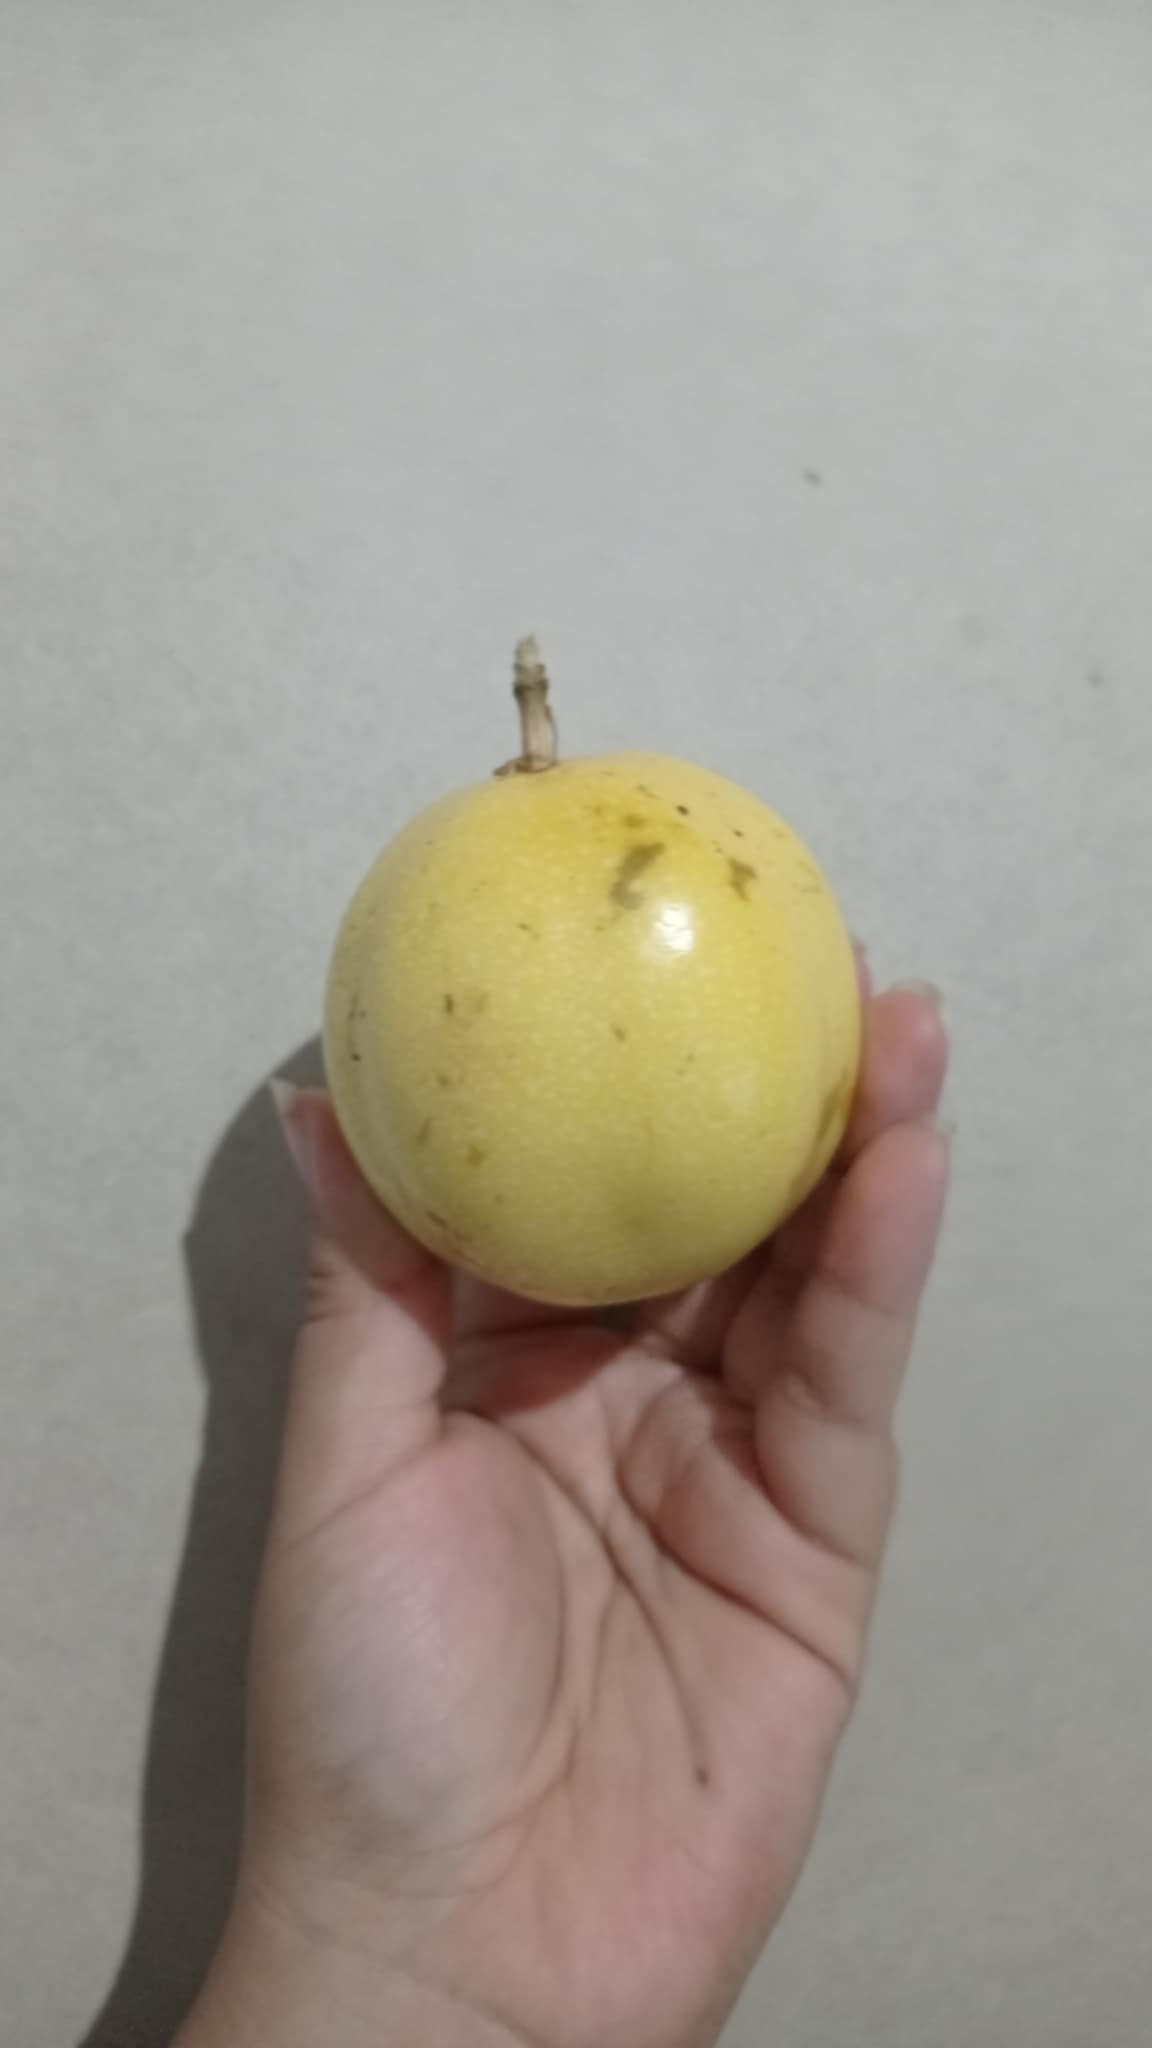maracuya: (302, 582, 883, 1348)
